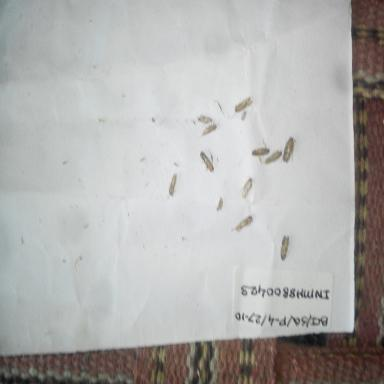pbw: (162, 166, 179, 202), (275, 230, 292, 266), (282, 131, 296, 166), (238, 173, 255, 201), (199, 149, 216, 175), (231, 94, 254, 113), (233, 214, 254, 234), (264, 148, 283, 168), (199, 122, 218, 140), (250, 144, 270, 158), (195, 111, 213, 124)
